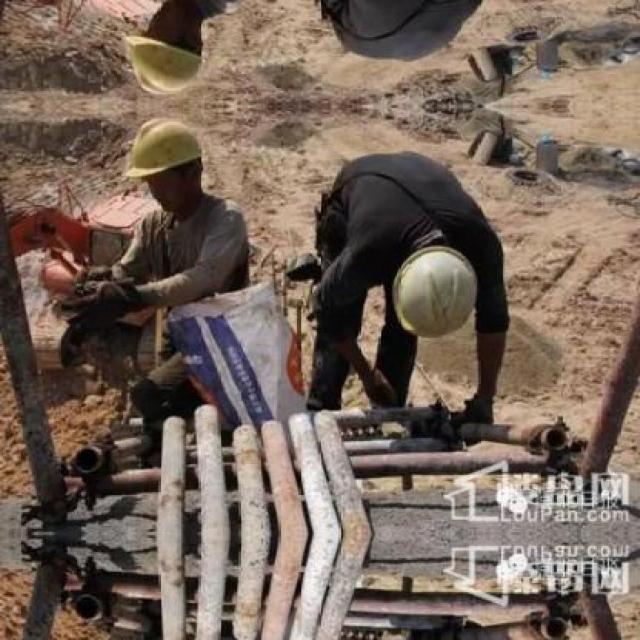helmet: (386, 240, 485, 354), (119, 110, 213, 218), (118, 0, 213, 103)
